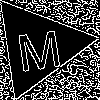M: (13, 21, 64, 72)
